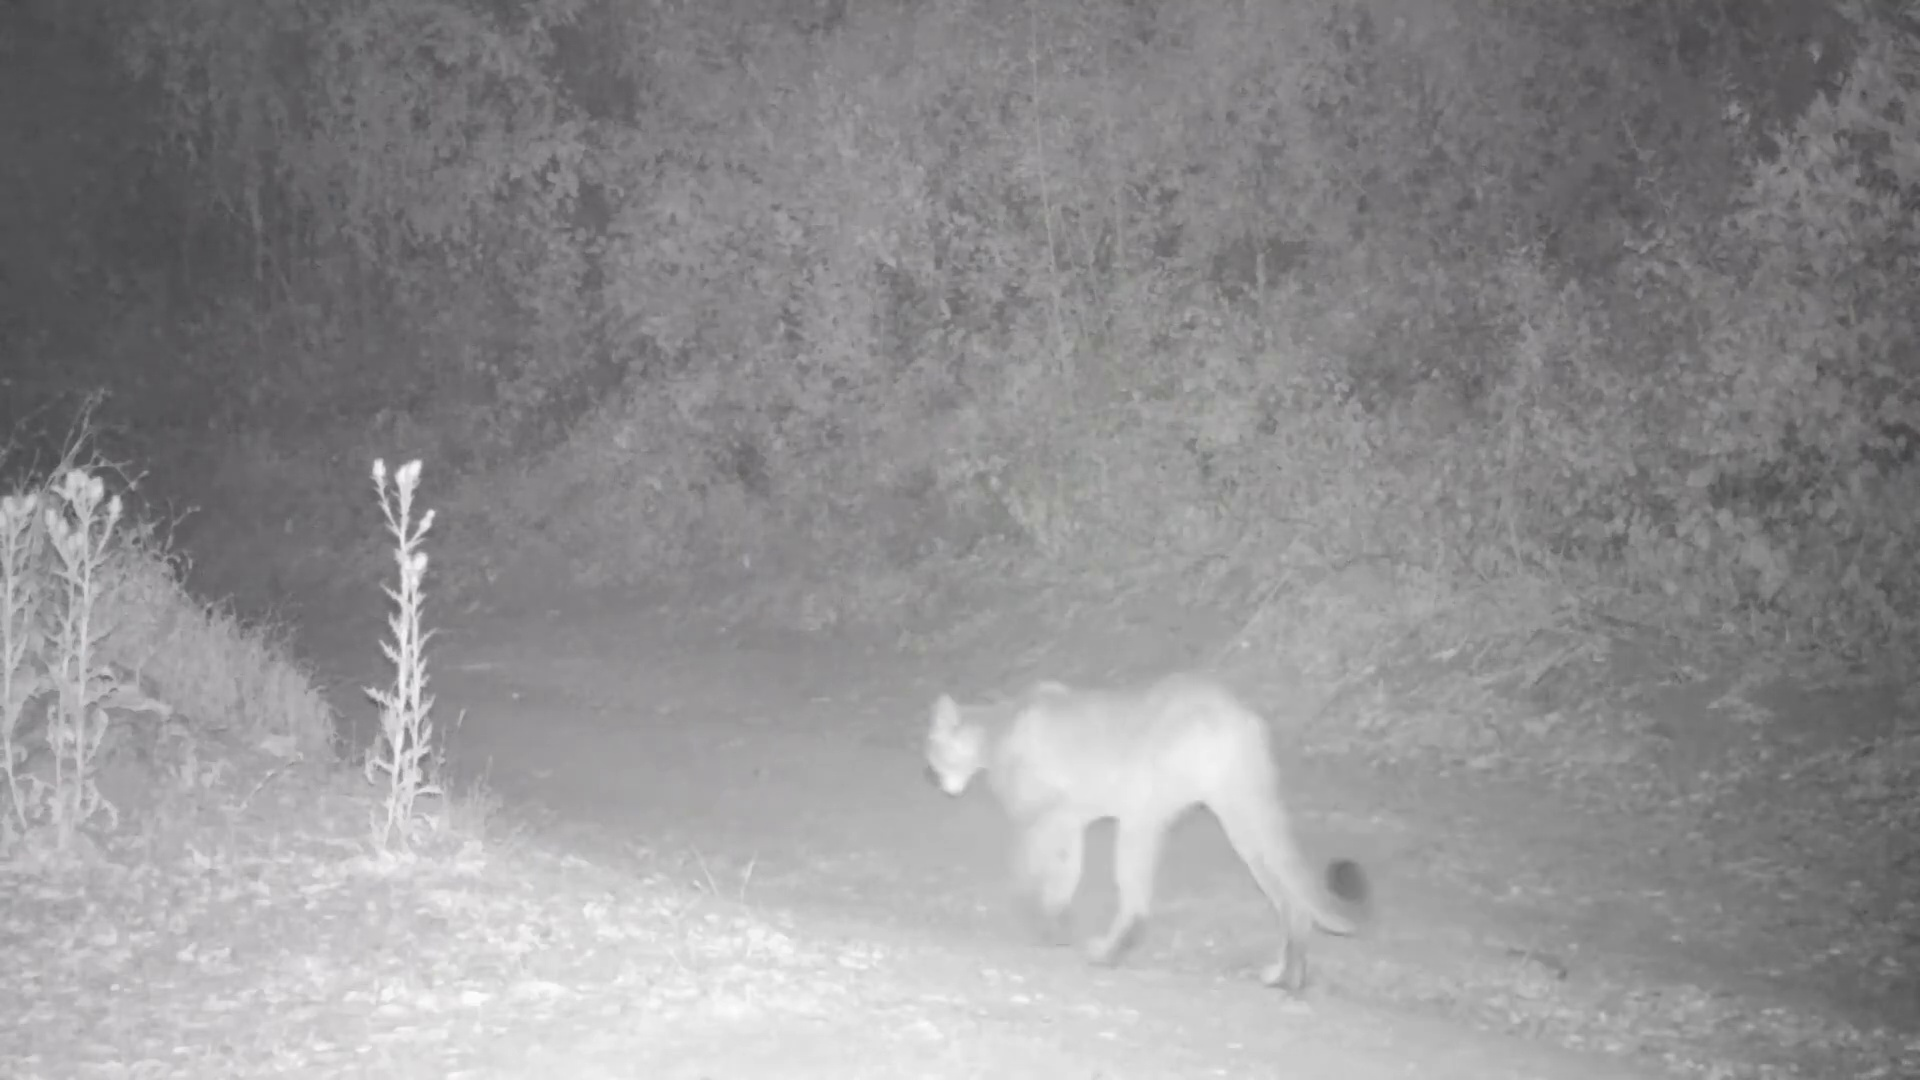Lion: (924, 666, 1377, 992)
